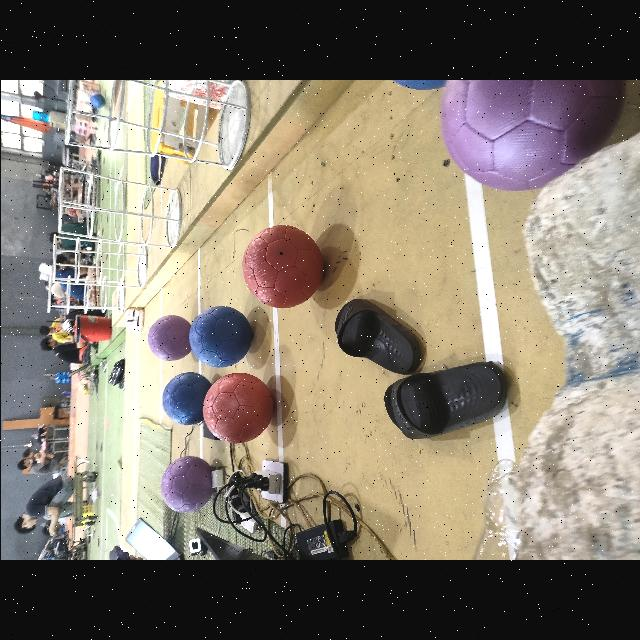B: (188, 306, 252, 368), (160, 373, 210, 425), (378, 80, 452, 90)
P: (441, 80, 624, 190), (160, 457, 212, 513), (146, 316, 190, 360)
R: (242, 226, 322, 308), (202, 373, 272, 443)
